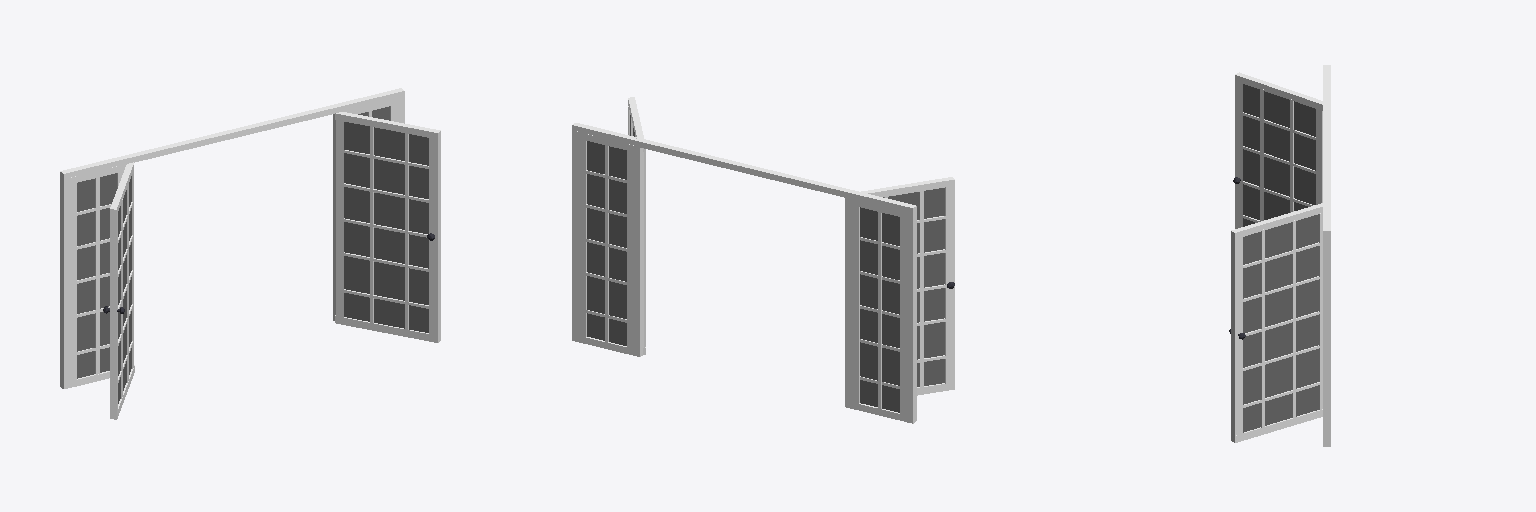
Rendered from glassDoorsOpened.obj.
3 renders of one model, left to right at view 1: azimuth 30°, elevation 25°; view 2: azimuth 150°, elevation 25°; view 3: azimuth 270°, elevation 25°, orthographic.
Parts seen in each view (by area): view 1: sweethome3d_window_pane_1, sweethome3d_window_pane_2, right, Cube_11_3, left, right_1, sweethome3d_window_pane_3, Cube_7_3, Cube_12_1, Cube_12_2, top, Cube_4_3 (+6 smaller); view 2: sweethome3d_window_pane, sweethome3d_window_pane_2, sweethome3d_window_pane_3, Cube_11_3, Cube_11_1, right_1, Cube_7_2, Cube_7, Cube_7_3, Cube_7_1, Cube_11, Cube_11_2 (+8 smaller); view 3: sweethome3d_window_pane_1, sweethome3d_window_pane_3, right, Cube_11, right_1, top, top_1, Cube_4_2, left, Cube_4_1, bottom, left_1 (+1 smaller).
Part boxes in pixels (x1,y1,x2,y2): sweethome3d_window_pane_1: (344,122,428,332); sweethome3d_window_pane_2: (77,173,116,378); right: (429,137,440,339); Cube_11_3: (60,177,69,388); left: (336,120,343,320); right_1: (110,214,117,415); sweethome3d_window_pane_3: (118,176,131,403); Cube_7_3: (70,183,76,387); Cube_12_1: (232,103,342,137); Cube_12_2: (123,130,233,163); top: (335,112,440,138); Cube_4_3: (95,177,99,374); sweethome3d_window_pane: (587,141,626,345); sweethome3d_window_pane_2: (860,207,899,412); sweethome3d_window_pane_3: (883,188,944,386); Cube_11_3: (907,211,916,423); Cube_11_1: (634,146,643,356); right_1: (945,186,954,387); Cube_7_2: (851,205,859,409); Cube_7: (578,138,586,343); Cube_7_3: (900,217,906,421); Cube_7_1: (627,150,633,355); Cube_11: (572,130,577,341); Cube_11_2: (845,198,850,408); sweethome3d_window_pane_1: (1243,214,1318,432); sweethome3d_window_pane_3: (1243,84,1315,226); right: (1231,237,1242,439); Cube_11: (1323,236,1330,446); right_1: (1235,81,1242,228); top: (1231,203,1322,238); top_1: (1235,72,1322,110); Cube_4_2: (1261,229,1264,427); left: (1319,213,1322,409); Cube_4_1: (1292,220,1295,417); bottom: (1231,409,1322,442); left_1: (1316,109,1322,204).
Bounding box in the file's own units: 24.62 × 14.87 × 6.35.